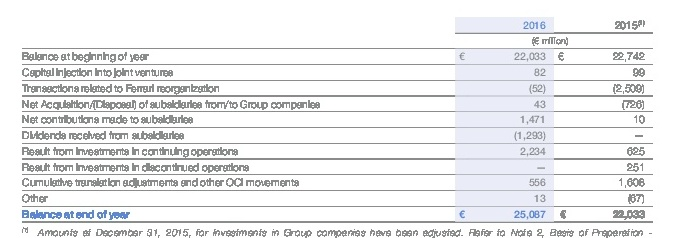table: (0, 0, 674, 238)
